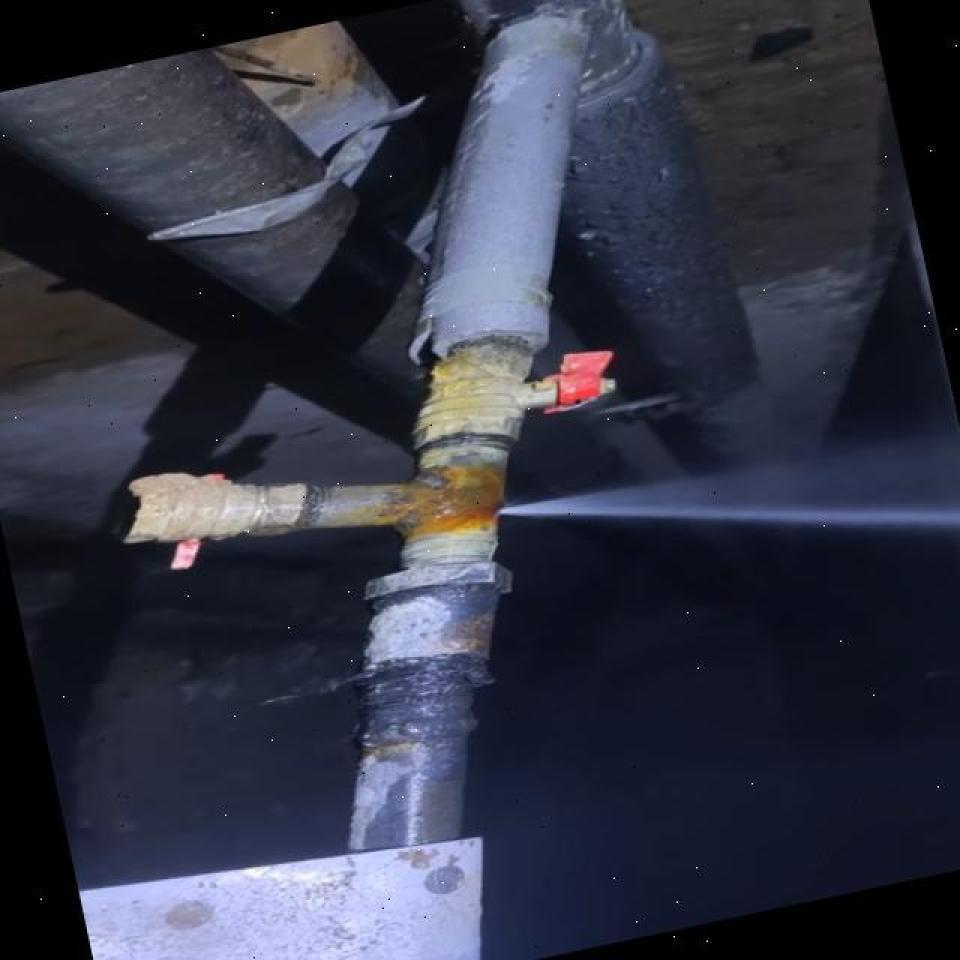pipe burst: (478, 427, 960, 534)
